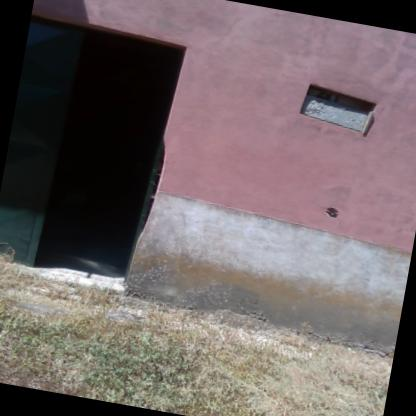open: (0, 2, 205, 307)
